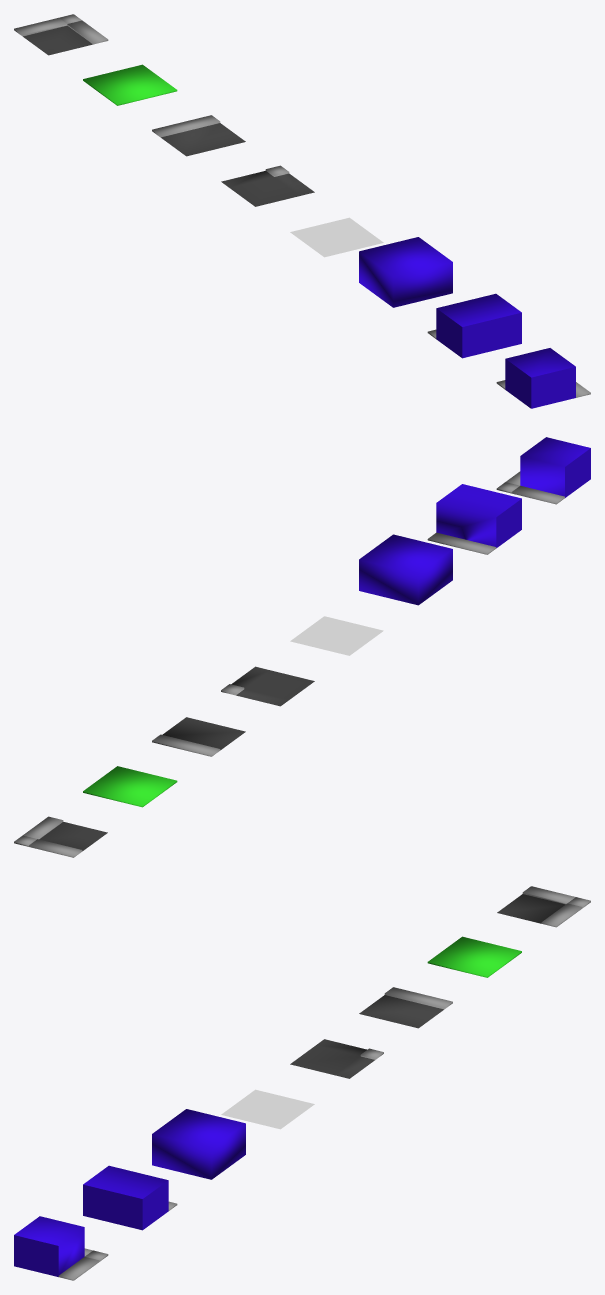
The model's file is Models.fbx.
3 views of the same model, one above another, from view 1: azimuth 30°, elevation 25°; view 2: azimuth 150°, elevation 25°; view 3: azimuth 330°, elevation 25° (orthographic).
Parts seen in each view (by area): view 1: BuildingCenter, BuildingStraight, BuildingCorner, InnerCurve, Grass, Straight, OuterCurve, Flat; view 2: BuildingCenter, BuildingStraight, BuildingCorner, Grass, InnerCurve, Straight, OuterCurve, Flat; view 3: BuildingCenter, BuildingStraight, BuildingCorner, Grass, Straight, InnerCurve, OuterCurve, Flat.
Part boxes in pixels (x1,y1,x2,y2): BuildingCenter: [359, 237, 452, 307]; BuildingStraight: [427, 293, 521, 358]; BuildingCorner: [496, 348, 590, 408]; InnerCurve: [14, 14, 108, 55]; Grass: [83, 64, 177, 105]; Straight: [152, 115, 245, 156]; OuterCurve: [221, 165, 314, 206]; Flat: [290, 217, 383, 257]; BuildingCenter: [359, 534, 452, 605]; BuildingStraight: [427, 484, 521, 554]; BuildingCorner: [496, 437, 590, 504]; Grass: [83, 766, 177, 807]; InnerCurve: [14, 816, 107, 857]; Straight: [152, 717, 245, 756]; OuterCurve: [221, 666, 314, 706]; Flat: [290, 616, 383, 655]; BuildingCenter: [152, 1109, 245, 1179]; BuildingStraight: [83, 1165, 177, 1230]; BuildingCorner: [14, 1216, 108, 1280]; Grass: [427, 936, 521, 977]; Straight: [359, 987, 452, 1028]; InnerCurve: [497, 886, 590, 927]; OuterCurve: [290, 1039, 383, 1078]; Flat: [221, 1089, 314, 1129].
Size of the model in its own units: 400 by 200 by 6000.
